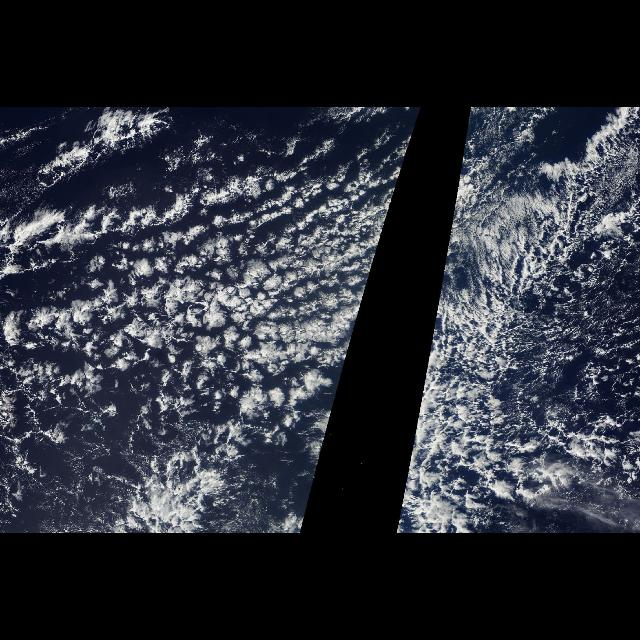Flower: (10, 156, 396, 414)
Gravel: (436, 235, 624, 469)
